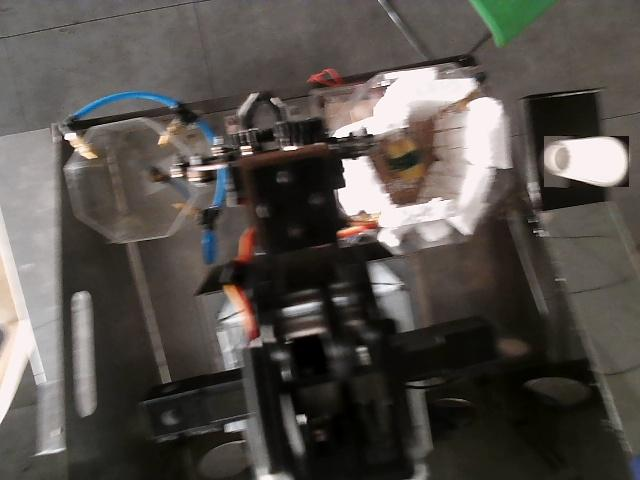cup: (544, 136, 629, 187)
